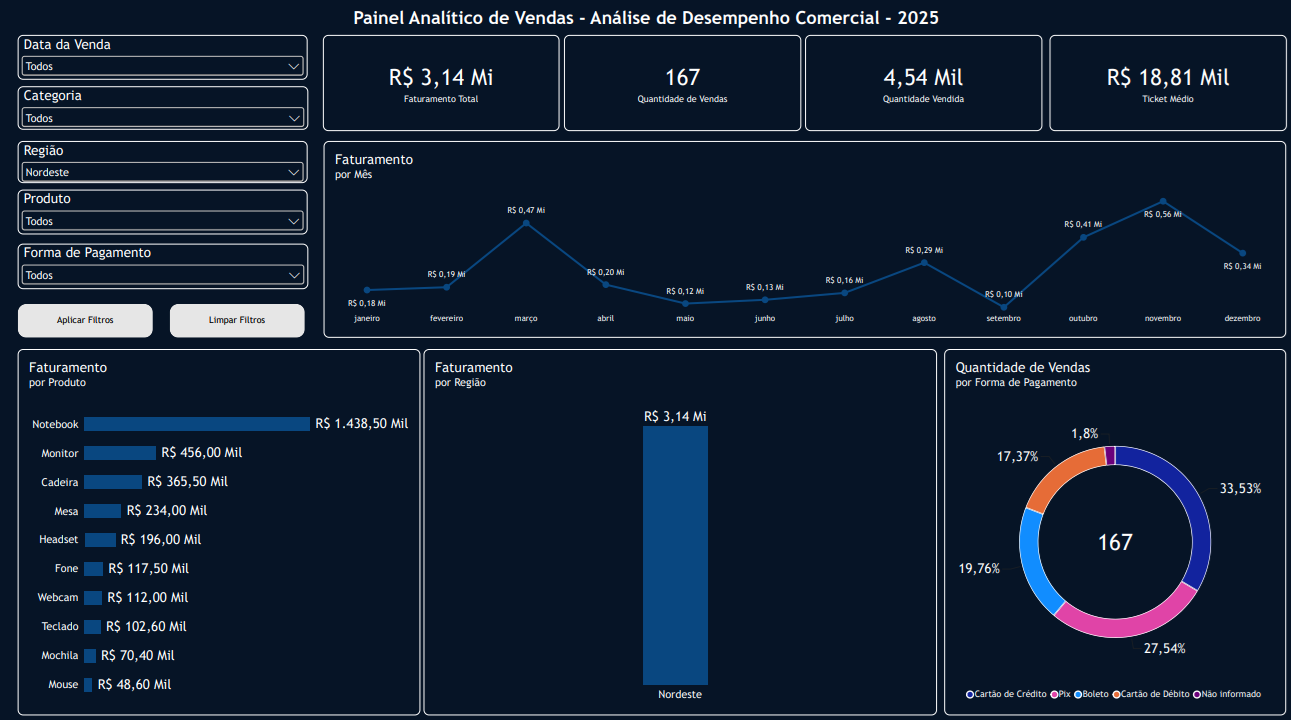

The page's visual inventory and layout, read from the dashboard file:
{"tool":"powerbi","page":{"name":"Página 1","canvas":[1920,1080],"ordinal":0},"visuals":[{"type":"card","fields":{"Values":["Medidas.Faturamento_total"]},"box":[481,55.7,350,142.5],"z":0},{"type":"card","fields":{"Values":["Medidas.Quantidade de Vendas"]},"box":[838.2,55.7,351,142.5],"z":1000},{"type":"card","fields":{"Values":["Medidas.Quantidade Vendida"]},"box":[1195.4,55.7,351,142.5],"z":2000},{"type":"card","fields":{"Values":["Medidas.Ticket Médio"]},"box":[1556.6,55.7,351,142.5],"z":3000},{"type":"lineChart","title":"Faturamento","fields":{"Category":["vendas_limpa.Mes_Ano.Variation.Hierarquia de datas.Mês"],"Y":["Medidas.Faturamento Total"]},"box":[481.6,212.6,1425.9,291.9],"z":4000},{"type":"clusteredBarChart","title":"Faturamento","fields":{"Category":["vendas_limpa.Produto"],"Y":["Medidas.Faturamento Total"]},"box":[29.2,521.2,596.2,542],"z":5000},{"type":"clusteredColumnChart","title":"Faturamento","fields":{"Category":["vendas_limpa.Regiao"],"Y":["Medidas.Faturamento Total"]},"box":[629.6,521.2,760.9,542],"z":6000},{"type":"slicer","fields":{"Values":["vendas_limpa.Data_Venda"]},"box":[28.9,55.7,429.4,66.1],"z":7000},{"type":"slicer","fields":{"Values":["vendas_limpa.Categoria"]},"box":[29.5,131.6,430,64.8],"z":8000},{"type":"slicer","fields":{"Values":["vendas_limpa.Regiao"]},"box":[28.9,212.6,429.4,61.9],"z":9000},{"type":"slicer","fields":{"Values":["vendas_limpa.Produto"]},"box":[28.9,284.9,429.4,66.1],"z":10000},{"type":"donutChart","title":"Quantidade de Vendas","fields":{"Category":["vendas_limpa.Forma_Pagamento"],"Y":["Medidas.Quantidade de Vendas"]},"box":[1400.9,521.2,506.6,542],"z":11000},{"type":"textbox","box":[487.7,13.7,944.5,82.5],"z":12000},{"type":"slicer","fields":{"Values":["vendas_limpa.Forma_Pagamento"]},"box":[29.5,365.2,430,66.8],"z":13000},{"type":"actionButton","box":[28.9,454.2,200,50],"z":14000},{"type":"actionButton","box":[253.9,454.2,200.3,49.5],"z":15000}]}

Visuals, with their boxes in screenshot pixels (x1, y1, x2, y2), scaled from the page's 1920x1080 canvas onto the 1316x724 screenshot:
card - Medidas.Faturamento_total: select_region(330, 37, 570, 133)
card - Medidas.Quantidade de Vendas: select_region(575, 37, 815, 133)
card - Medidas.Quantidade Vendida: select_region(819, 37, 1060, 133)
card - Medidas.Ticket Médio: select_region(1067, 37, 1308, 133)
"Faturamento" lineChart: select_region(330, 143, 1307, 338)
"Faturamento" clusteredBarChart: select_region(20, 349, 429, 713)
"Faturamento" clusteredColumnChart: select_region(432, 349, 953, 713)
slicer - vendas_limpa.Data_Venda: select_region(20, 37, 314, 82)
slicer - vendas_limpa.Categoria: select_region(20, 88, 315, 132)
slicer - vendas_limpa.Regiao: select_region(20, 143, 314, 184)
slicer - vendas_limpa.Produto: select_region(20, 191, 314, 235)
"Quantidade de Vendas" donutChart: select_region(960, 349, 1307, 713)
textbox: select_region(334, 9, 982, 64)
slicer - vendas_limpa.Forma_Pagamento: select_region(20, 245, 315, 290)
actionButton: select_region(20, 304, 157, 338)
actionButton: select_region(174, 304, 311, 338)
